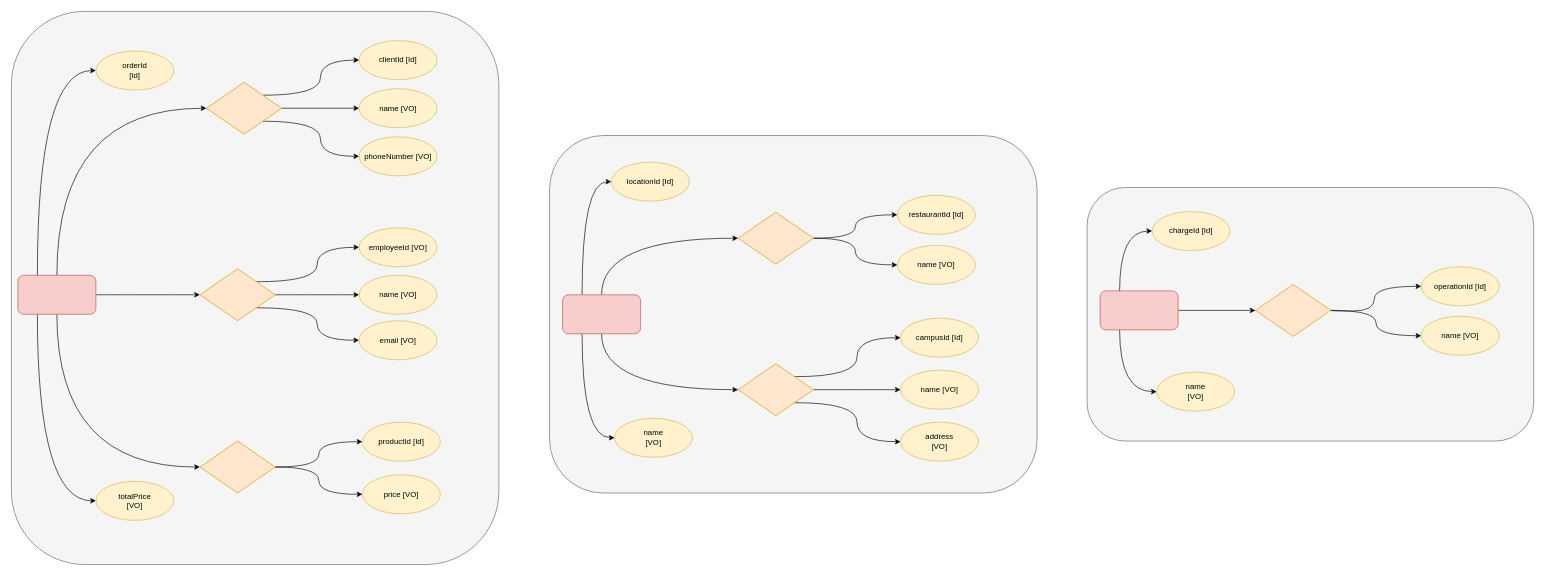
Image size: 1545x576. Some labels were removed from this diagram. Here are the shapes that lost their labels. From the top down, the box of each, then its label:
(206, 82, 282, 134): Client [E]
(737, 212, 813, 264): Restaurant [E]
(17, 275, 96, 314): Order [AR]
(199, 268, 275, 321): Employee [E]
(562, 294, 641, 334): Location [AR]
(1099, 290, 1178, 330): Charge [AR]
(1255, 284, 1331, 336): Operation [E]
(737, 363, 813, 416): Campus [E]
(199, 440, 275, 493): Product [E]
